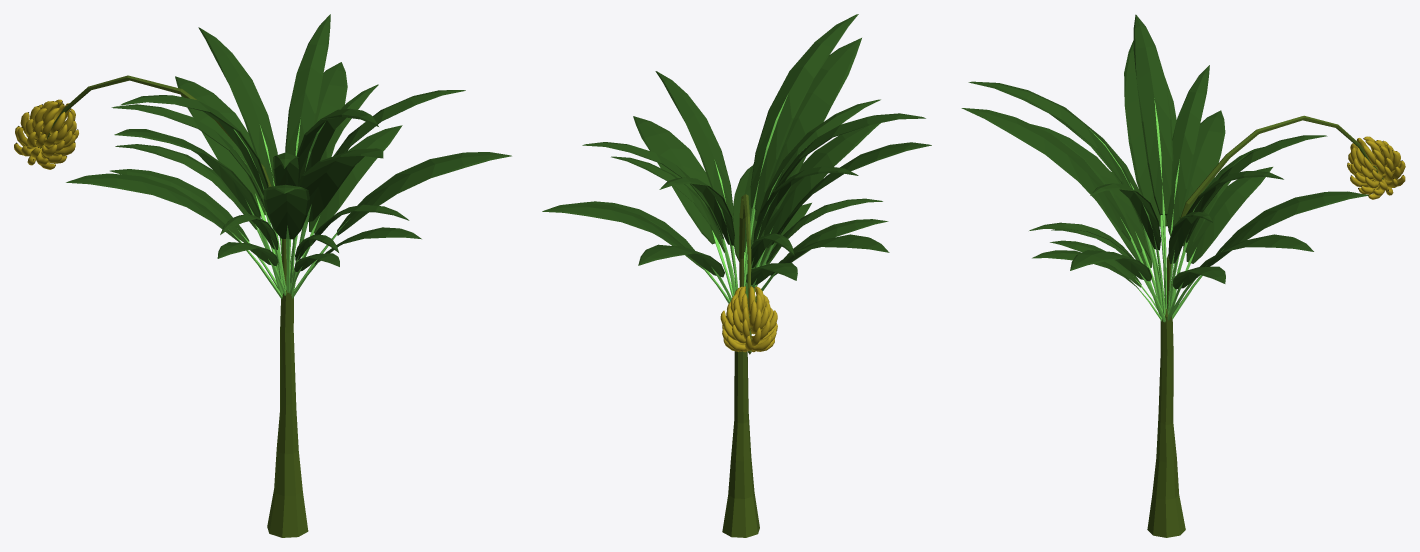
File: SM_BananaTree_001_LOD2.fbx
3 views of the same model, side by side, from view 1: azimuth 30°, elevation 25°; view 2: azimuth 150°, elevation 25°; view 3: azimuth 270°, elevation 25° (orthographic). The views are drawn at different scales.
Parts seen in each view (by area): view 1: BananaTree; view 2: BananaTree; view 3: BananaTree.
Part boxes in pixels (<box>): BananaTree: <box>14,14,511,537</box>; BananaTree: <box>542,14,931,537</box>; BananaTree: <box>961,14,1405,537</box>.
Bounding box in the file's own units: 273 × 350 × 320.
